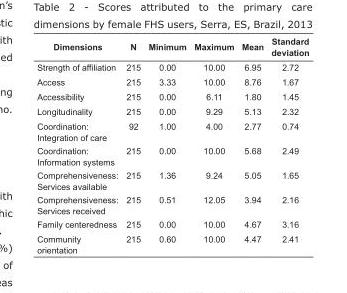table: (36, 35, 308, 254)
table column: (36, 35, 121, 254), (189, 35, 237, 254), (143, 35, 189, 254), (266, 35, 308, 254), (237, 35, 266, 254), (121, 35, 143, 254)
table column header: (36, 35, 308, 59)
table row: (36, 118, 308, 143), (36, 143, 308, 168), (36, 192, 308, 217), (36, 35, 308, 59), (36, 168, 308, 192), (36, 231, 308, 254), (36, 59, 308, 74), (36, 88, 308, 103), (36, 103, 308, 118), (36, 74, 308, 88), (36, 217, 308, 231)
